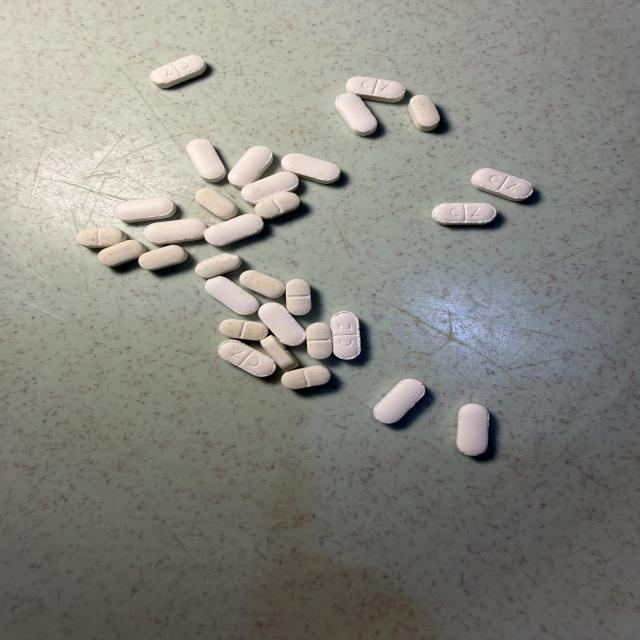pill: (374, 379, 425, 423), (218, 340, 275, 377), (206, 276, 259, 315), (258, 303, 305, 346), (472, 168, 533, 201), (228, 146, 273, 188), (241, 171, 298, 204), (205, 214, 263, 246), (151, 55, 206, 88), (336, 93, 377, 136), (282, 154, 340, 184), (186, 139, 226, 182), (457, 404, 489, 456), (114, 197, 176, 222), (145, 219, 207, 244), (347, 77, 405, 102), (331, 311, 361, 359), (432, 203, 496, 224), (260, 336, 298, 371), (195, 188, 237, 219), (239, 270, 285, 298), (98, 240, 146, 266), (139, 245, 188, 270), (255, 192, 300, 219), (282, 365, 330, 389), (409, 95, 440, 131), (195, 254, 241, 278), (76, 227, 127, 248), (219, 319, 268, 340), (306, 323, 332, 359), (286, 279, 311, 315)
